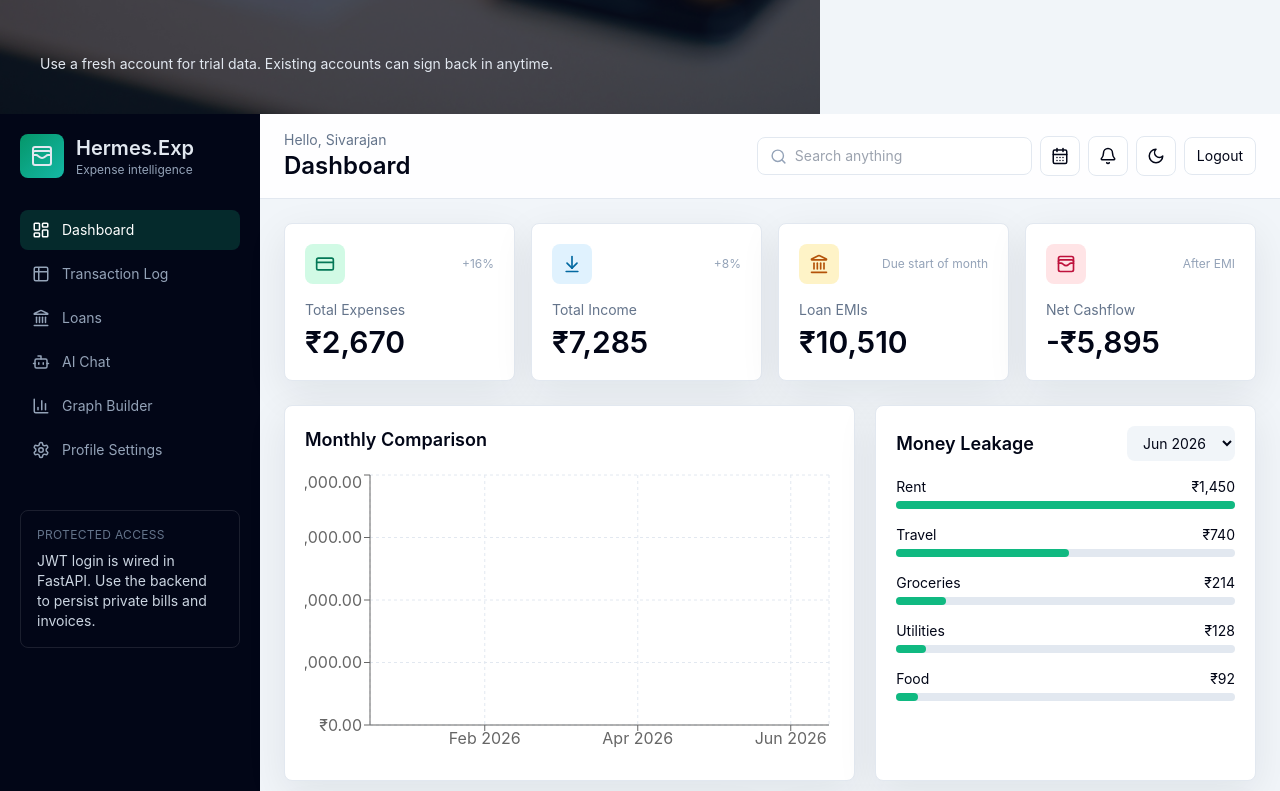
Transaction Log › shows salary income sources in the fixed salary total
The width and height of the screenshot is (1280, 791).
(page scrolled)
Click the button "Profile Settings" at (130,450), box left=20, top=430, right=240, bottom=470
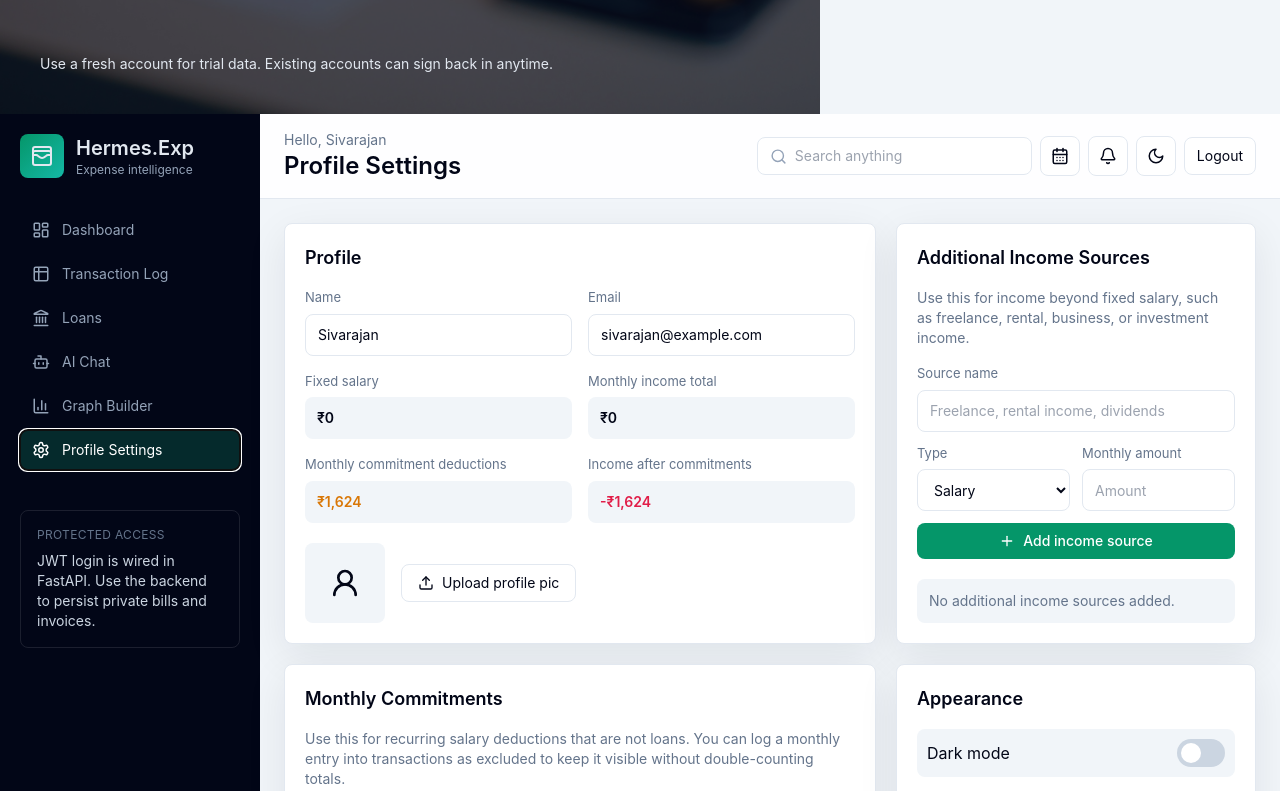
Check: the text "₹0" is shown 2 times, box left=305, top=397, right=572, bottom=439; left=588, top=397, right=855, bottom=439
Type "Primary Salary" into the field with placeholder "Freelance, rental income, dividends" at (1076,410), box left=917, top=390, right=1235, bottom=432
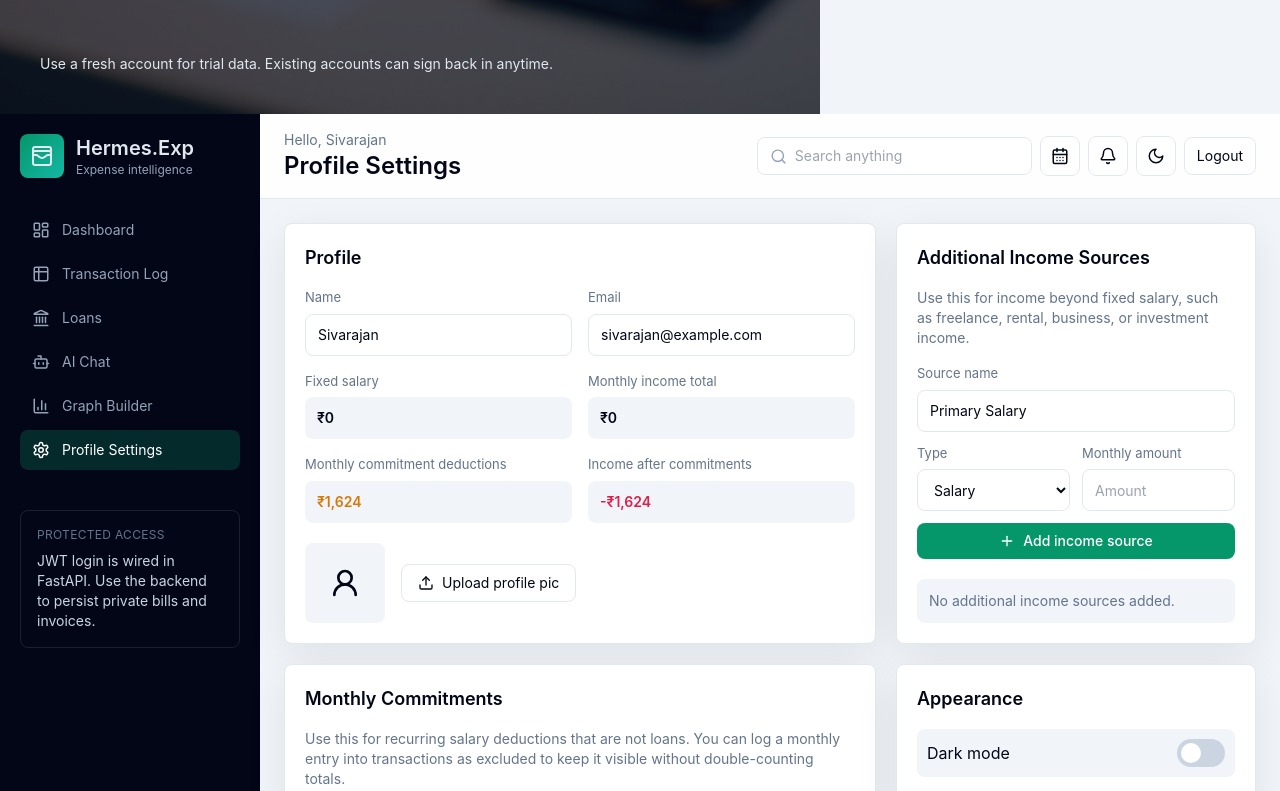
Type "90000" into the number field with placeholder "Amount" at (1158,490), box left=1082, top=469, right=1235, bottom=511
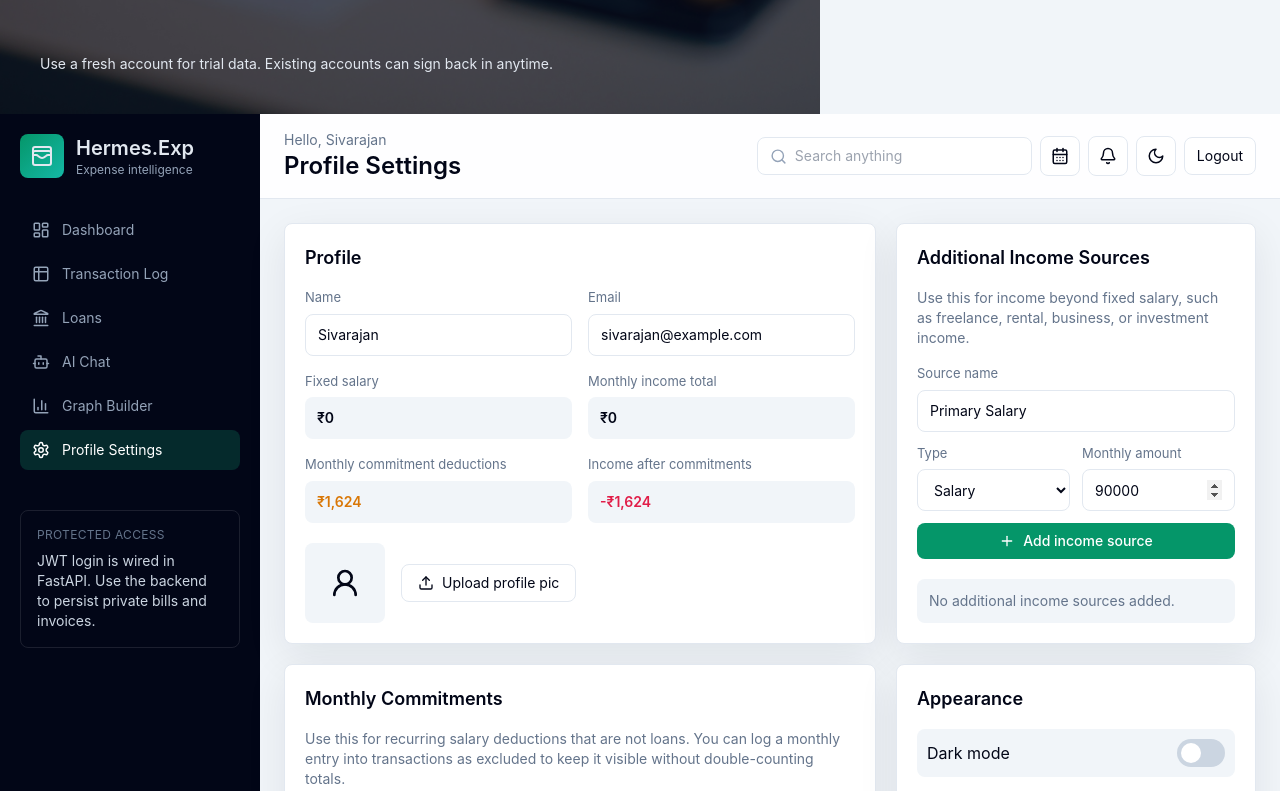
Click the button "Add income source" at (1076,541), box left=917, top=523, right=1235, bottom=559
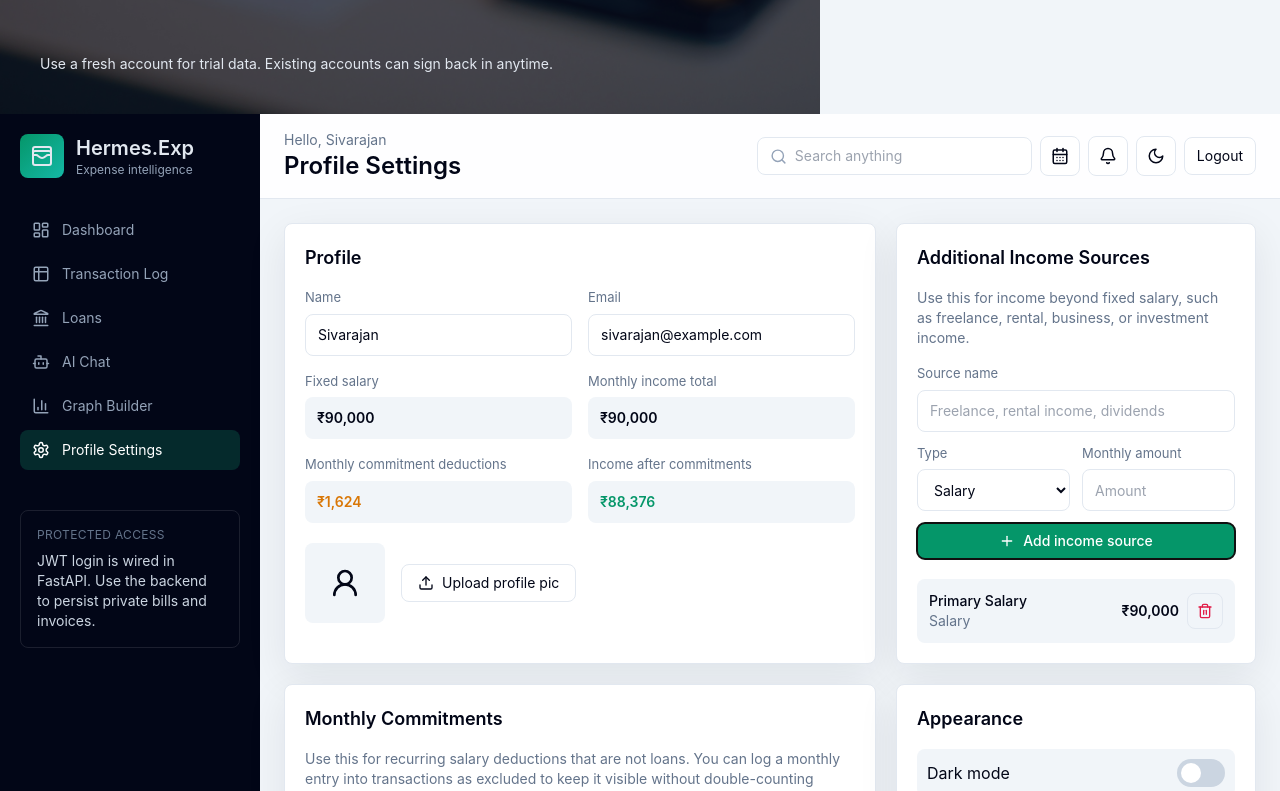
Check: the text "₹90,000" is shown 3 times, box left=305, top=397, right=572, bottom=439; left=588, top=397, right=855, bottom=439; left=1122, top=601, right=1179, bottom=621
